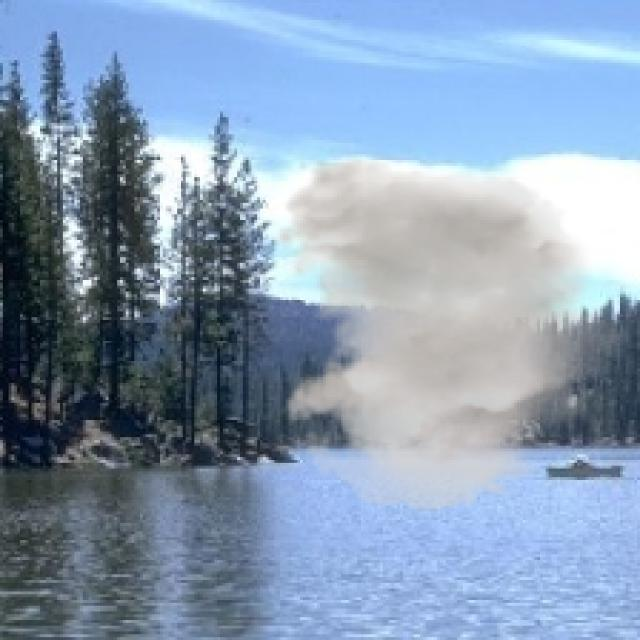smoke: (272, 157, 637, 512)
